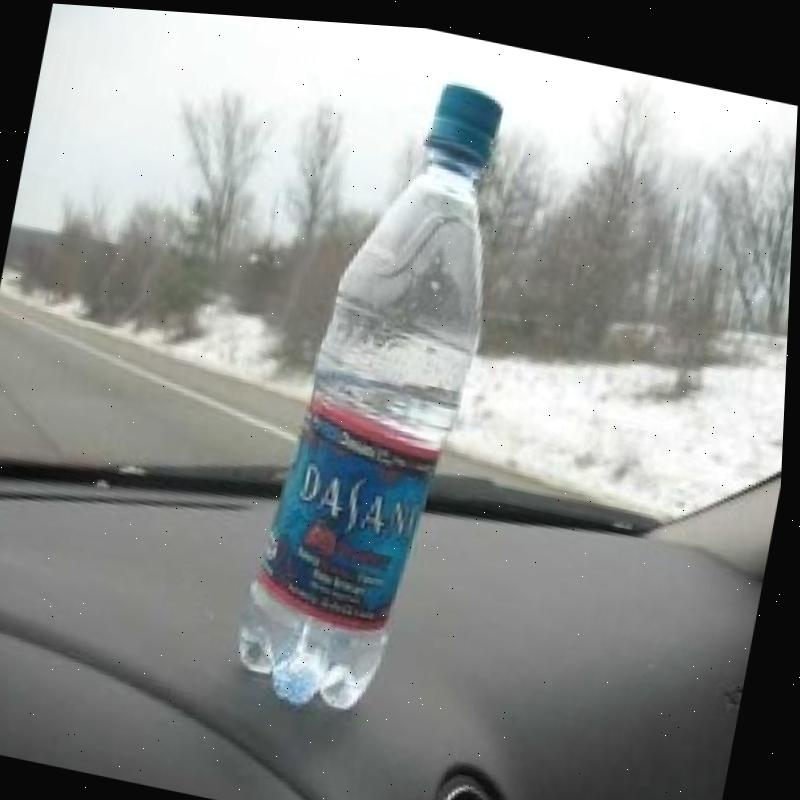botella: (233, 50, 525, 728)
